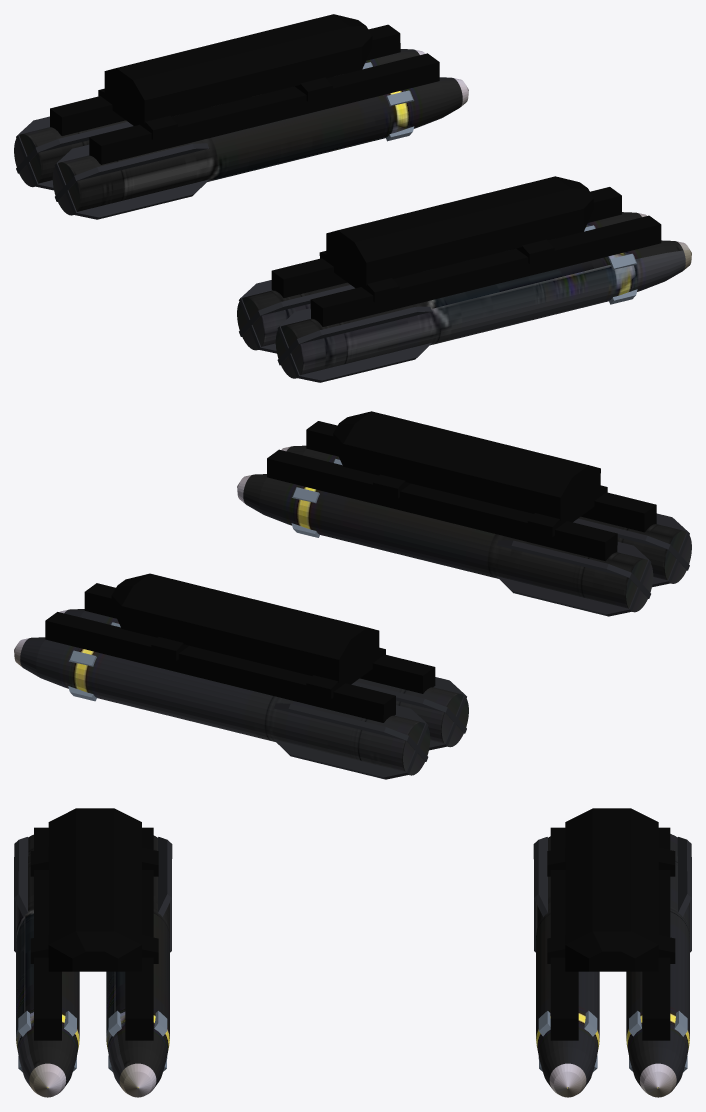
File: mq9bagm11423.glb
3 renders of one model, top to bottom at view 1: azimuth 30°, elevation 25°; view 2: azimuth 150°, elevation 25°; view 3: azimuth 270°, elevation 25°, orthographic. The views are drawn at different scales.
Parts seen in each view (by area): view 1: 立方体.003, 立方体.004, 円柱.005, 円柱.006, 円柱.003, 円柱.004; view 2: 立方体.004, 立方体.003, 円柱.003, 円柱.004, 円柱.006, 円柱.005; view 3: 立方体.003, 立方体.004, 円柱.003, 円柱.005, 円柱.004, 円柱.006.
Part boxes in pixels (x1,y1,x2,y2): 立方体.003: (50, 14, 439, 164); 立方体.004: (271, 176, 661, 326); 円柱.005: (275, 240, 691, 382); 円柱.006: (52, 77, 468, 219); 円柱.003: (14, 49, 425, 190); 円柱.004: (237, 212, 646, 353); 立方体.004: (267, 411, 656, 561); 立方体.003: (45, 573, 435, 722); 円柱.003: (14, 637, 430, 779); 円柱.004: (237, 474, 653, 616); 円柱.006: (59, 609, 468, 750); 円柱.005: (281, 445, 691, 587); 立方体.003: (547, 808, 675, 1040); 立方体.004: (30, 808, 158, 1040); 円柱.003: (626, 834, 691, 1097); 円柱.005: (14, 834, 79, 1097); 円柱.004: (106, 835, 172, 1097); 円柱.006: (533, 836, 599, 1097).
Bounding box in the file's own units: 1.92 × 0.4978 × 2.4.
Materials: 4 (1 with a texture image).
